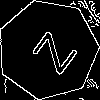Z: (23, 24, 78, 76)
